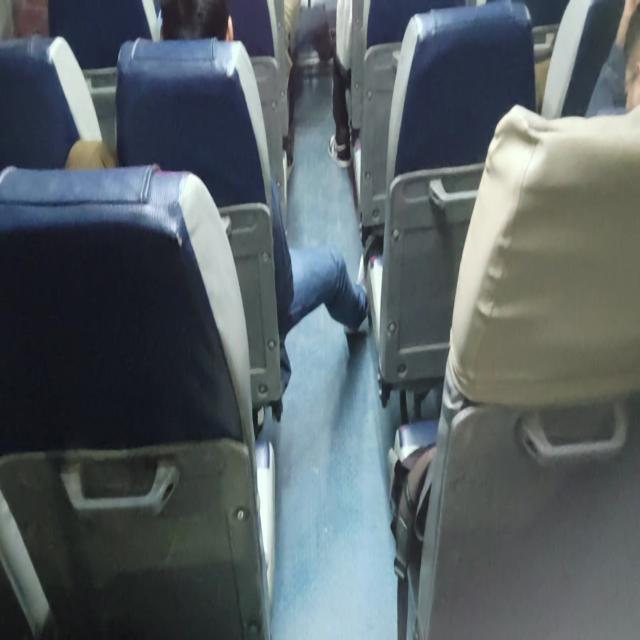person: (160, 0, 252, 65), (612, 0, 639, 144)
